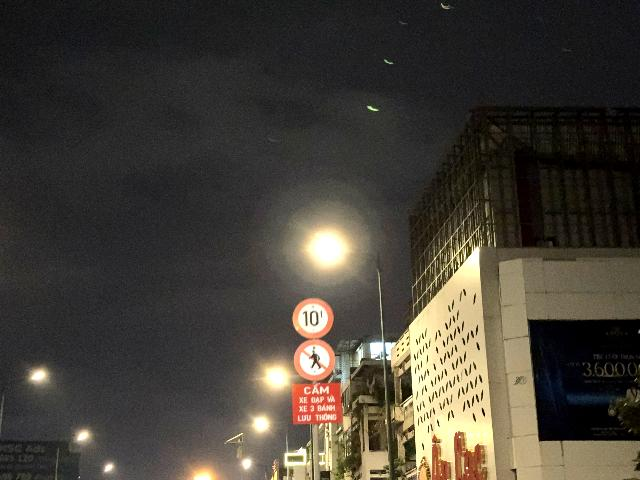cam-nguoi-di-bo: (294, 339, 335, 381)
han-che-trong-luong-xe: (292, 298, 335, 338)
